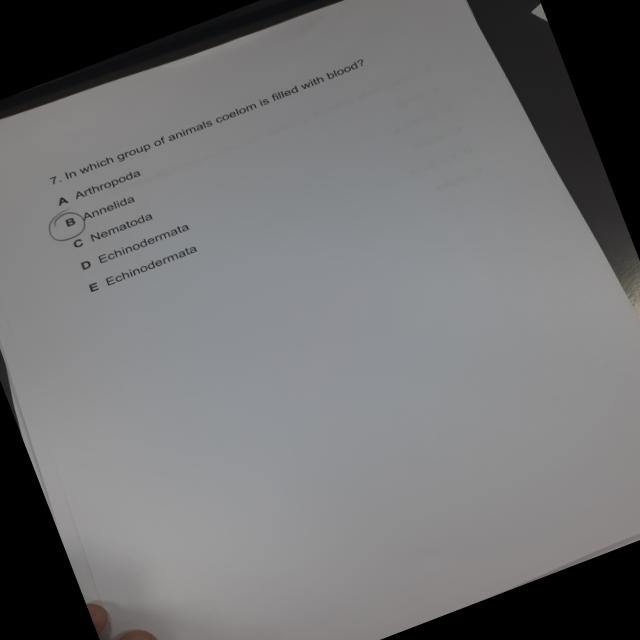B: (43, 205, 95, 248)
